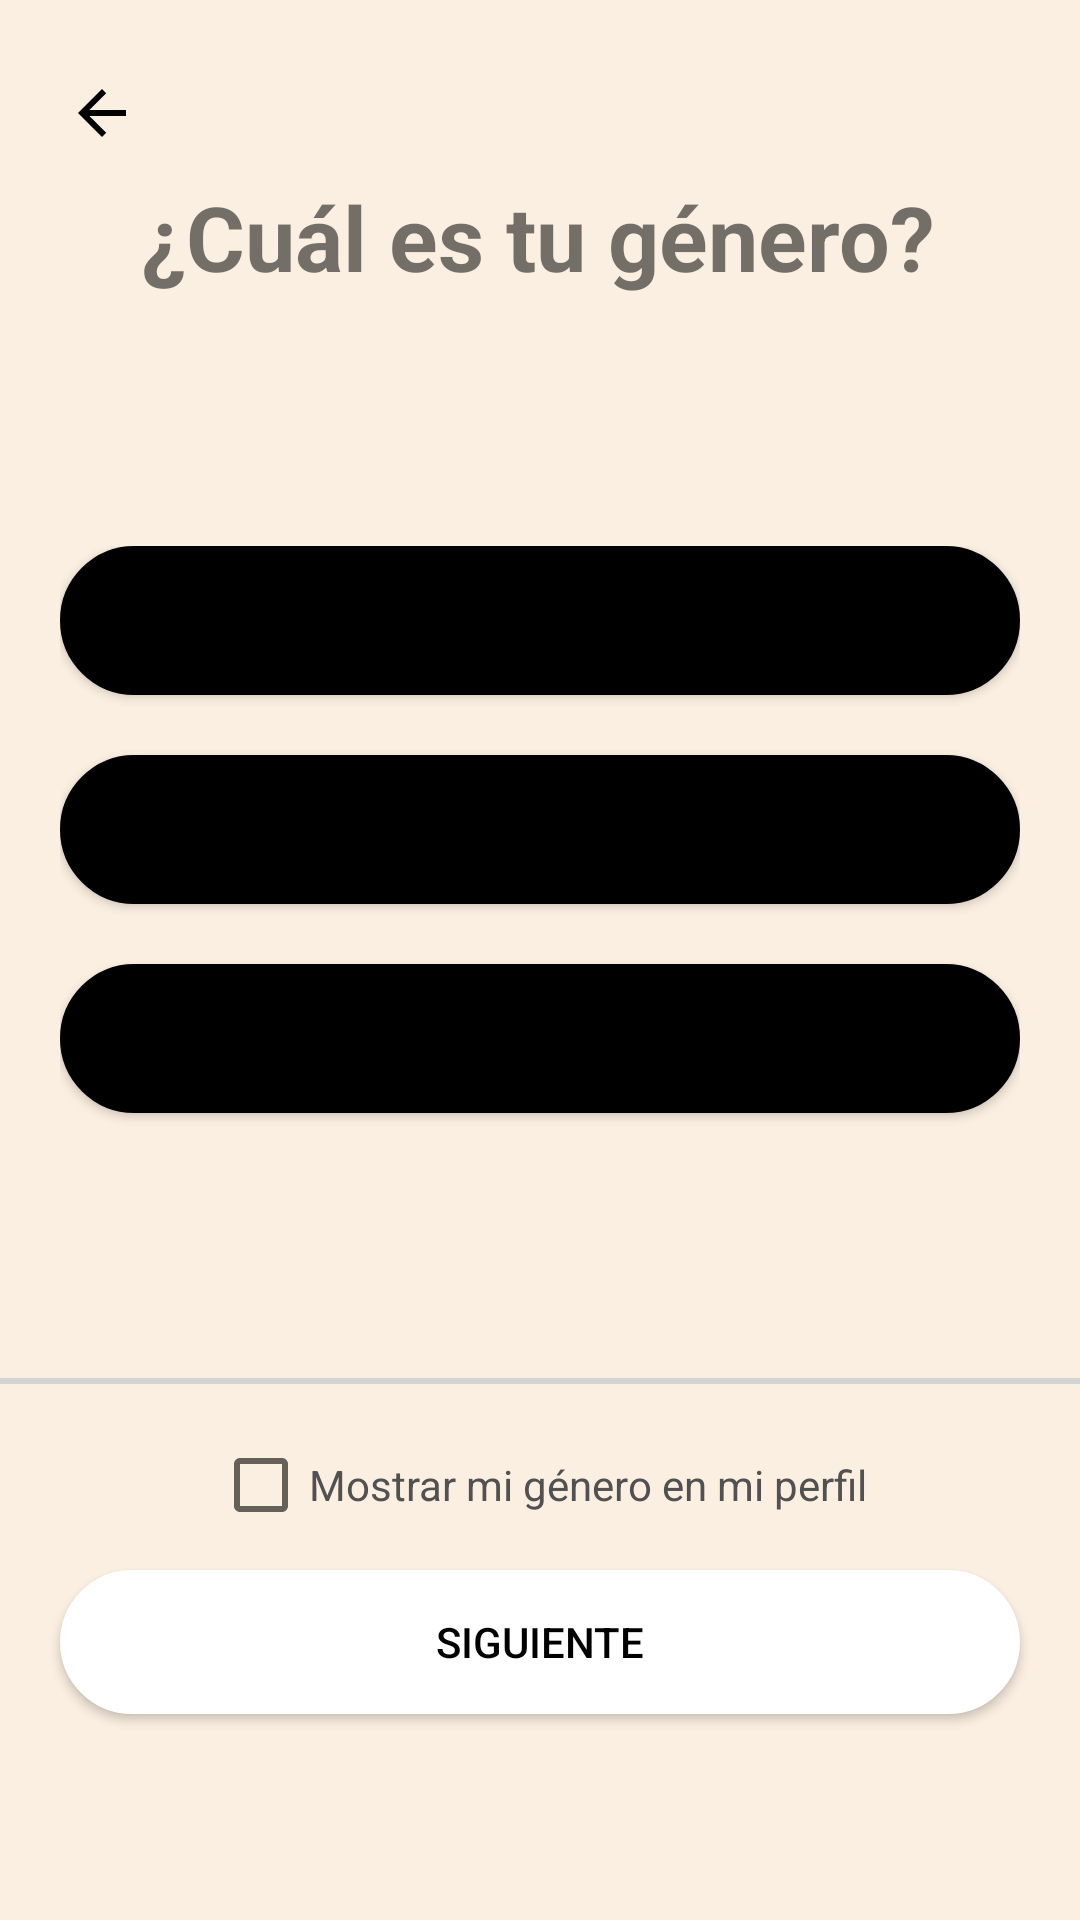

Point at icon controls on the screen. Image size 1080 x 1920, points as point (x, y).
Volver atras: point (102, 113)
